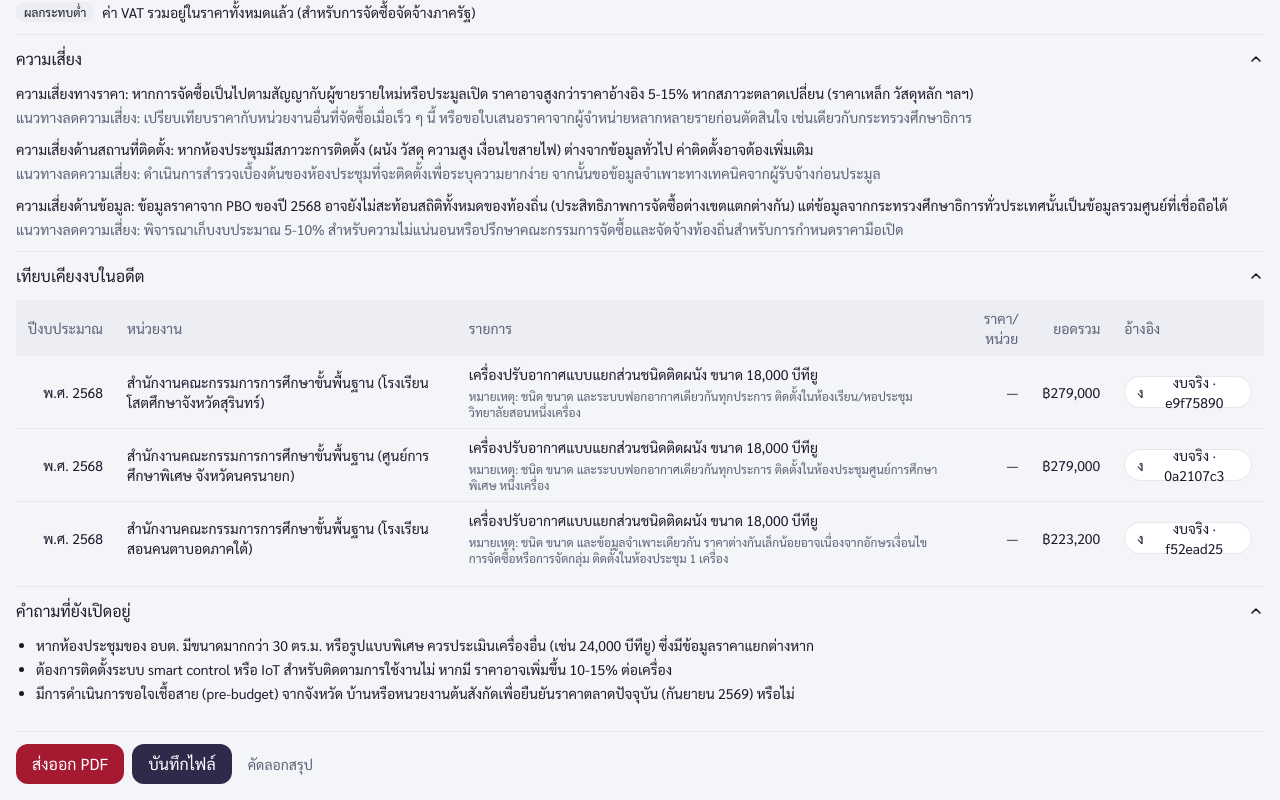
Test case: ProposalPaneContainer — ต่อกับ proposalStore › กด "บันทึกไฟล์" สำเร็จ → เรียก saveSessionFile จาก @/features/export + toast สำเร็จ
The image size is (1280, 800).
(page scrolled)
Click the button "บันทึกไฟล์" at (182, 764), box top-left (132, 744), bottom-right (232, 784)
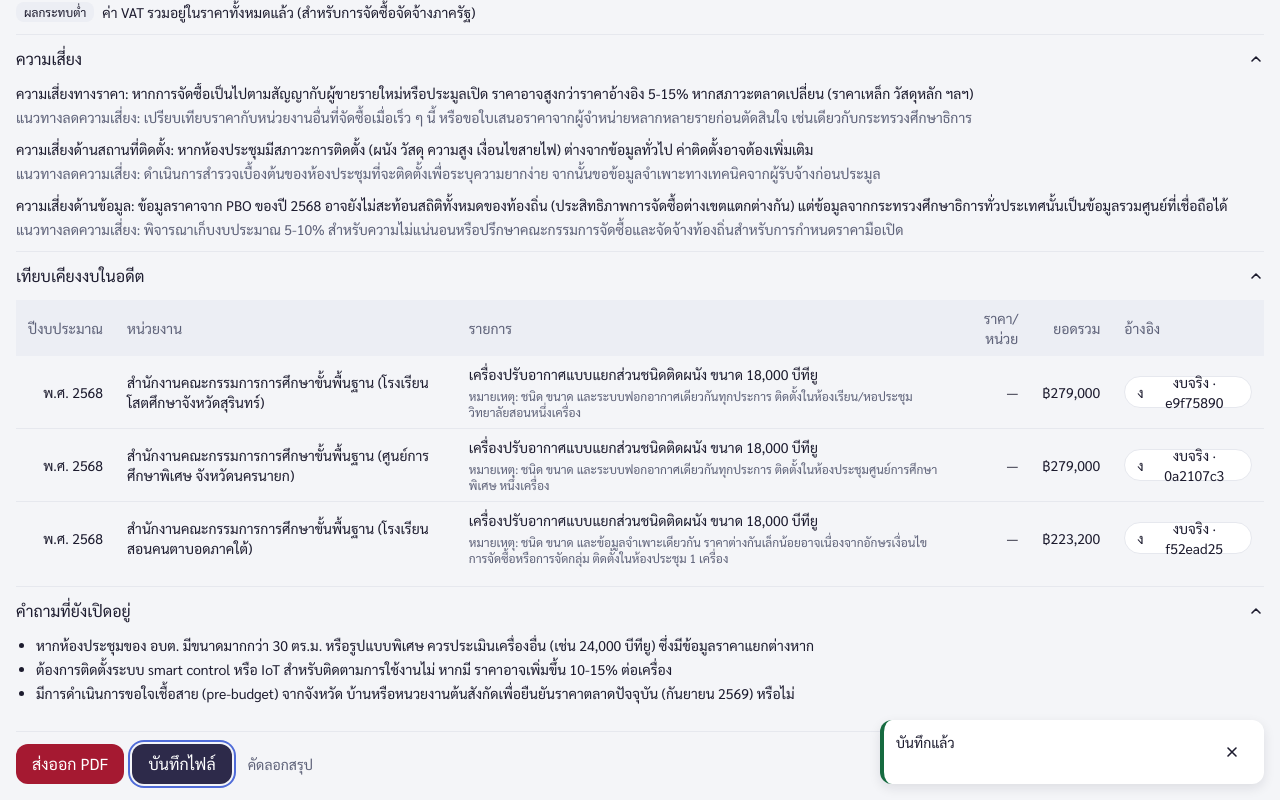
Expected: the text "บันทึกแล้ว" is shown, top-left (896, 733), bottom-right (955, 751)
